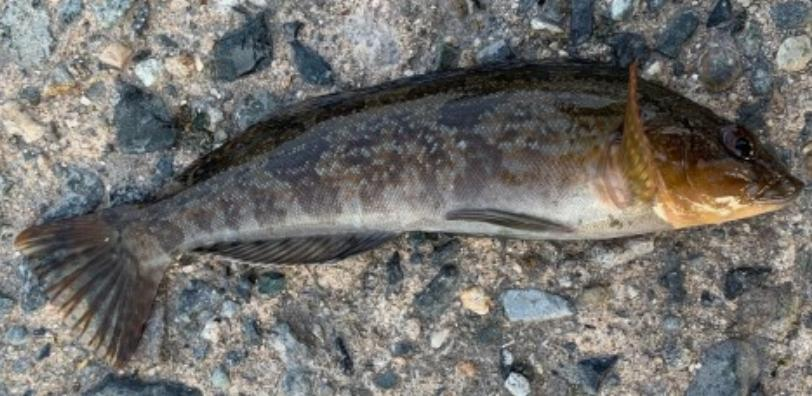fish: (17, 59, 804, 364)
